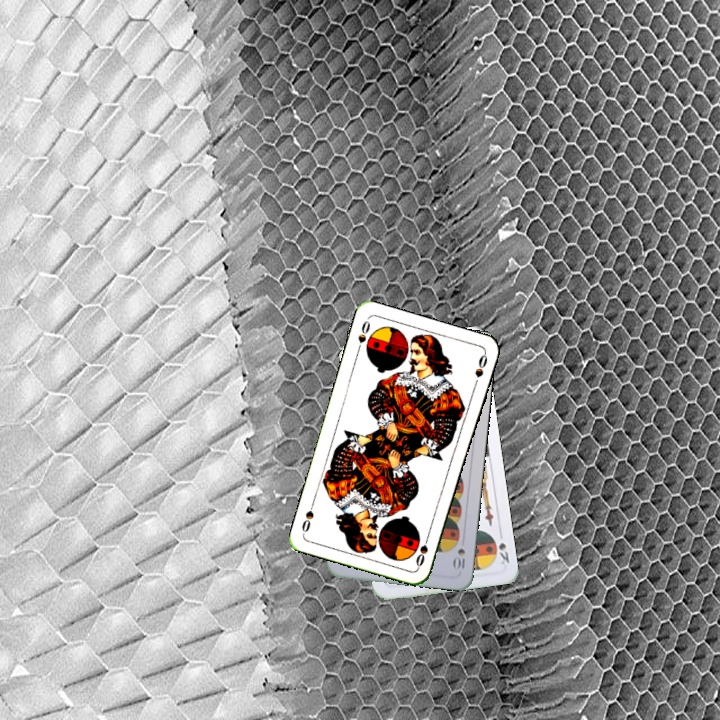S10: (450, 544, 468, 573)
SK: (495, 538, 512, 567)
SO: (412, 530, 432, 570), (353, 315, 373, 355)
